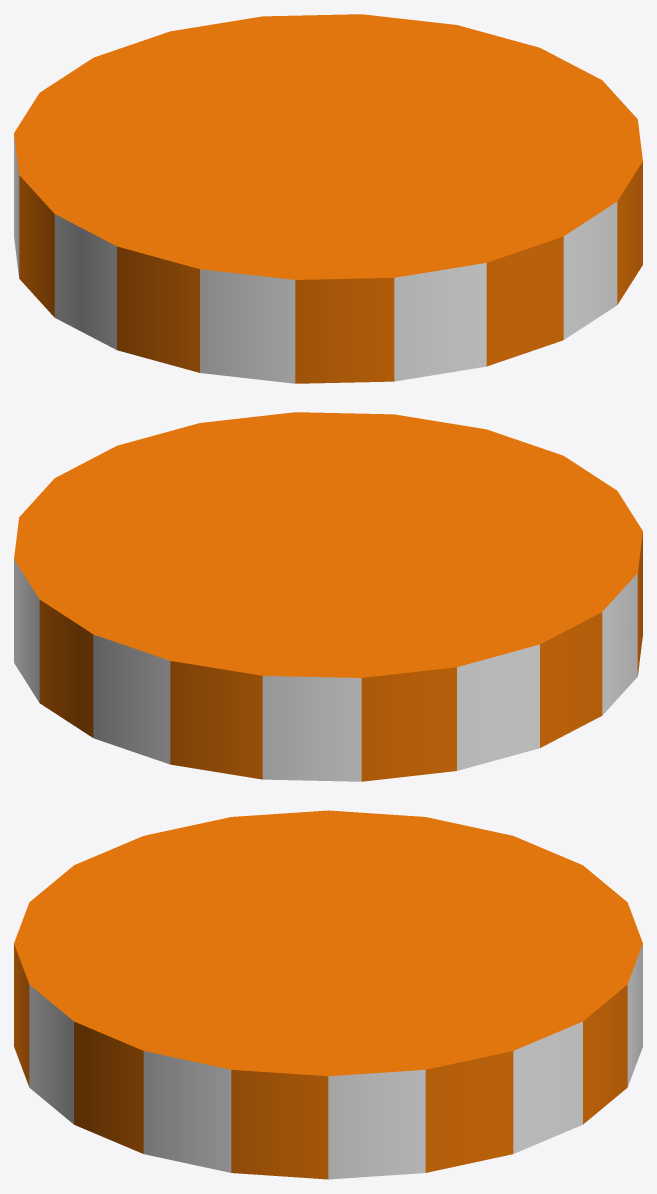
File: RoundBarrierA.fbx
The picture shows the model from 3 angles, top to bottom: view 1: azimuth 30°, elevation 25°; view 2: azimuth 150°, elevation 25°; view 3: azimuth 270°, elevation 25°; orthographic projection.
Parts seen in each view (by area): view 1: RoundBarrierA; view 2: RoundBarrierA; view 3: RoundBarrierA.
Part boxes in pixels (<box>): RoundBarrierA: <box>14,14,642,383</box>; RoundBarrierA: <box>14,412,642,781</box>; RoundBarrierA: <box>14,810,642,1179</box>.
Size of the model in its own units: 243 by 43.95 by 243.
Materials: 1 (1 with a texture image).
